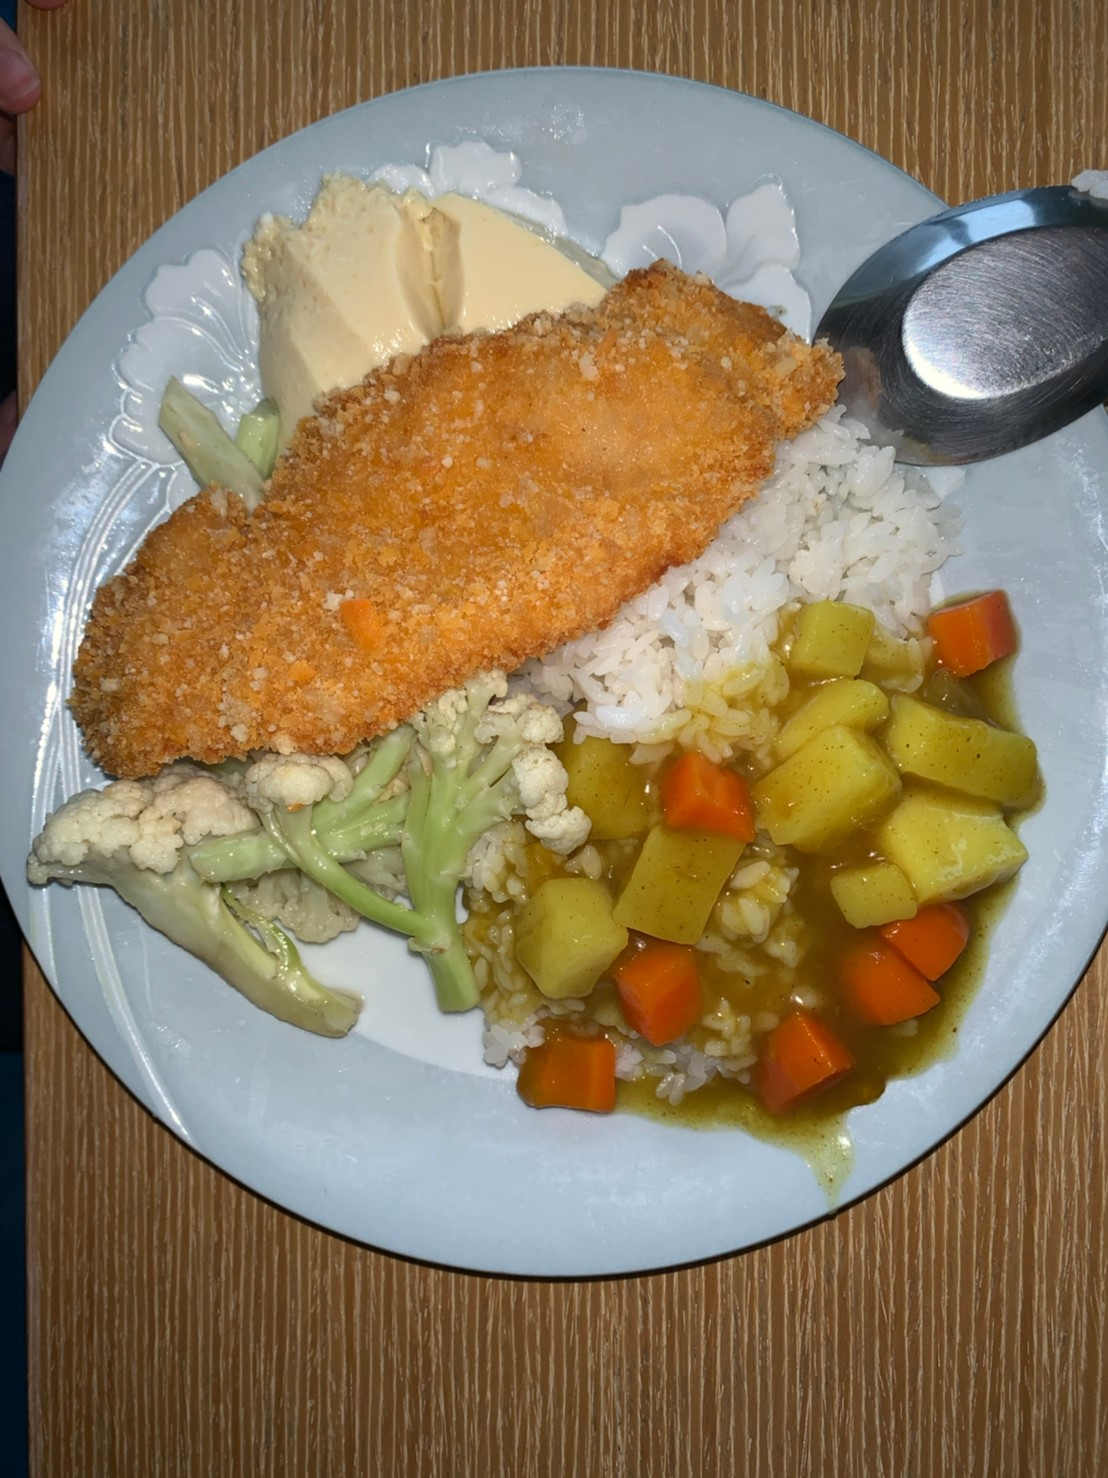curry: (492, 590, 1040, 1145)
fried_chicken: (65, 264, 850, 784)
rice: (556, 403, 961, 741)
